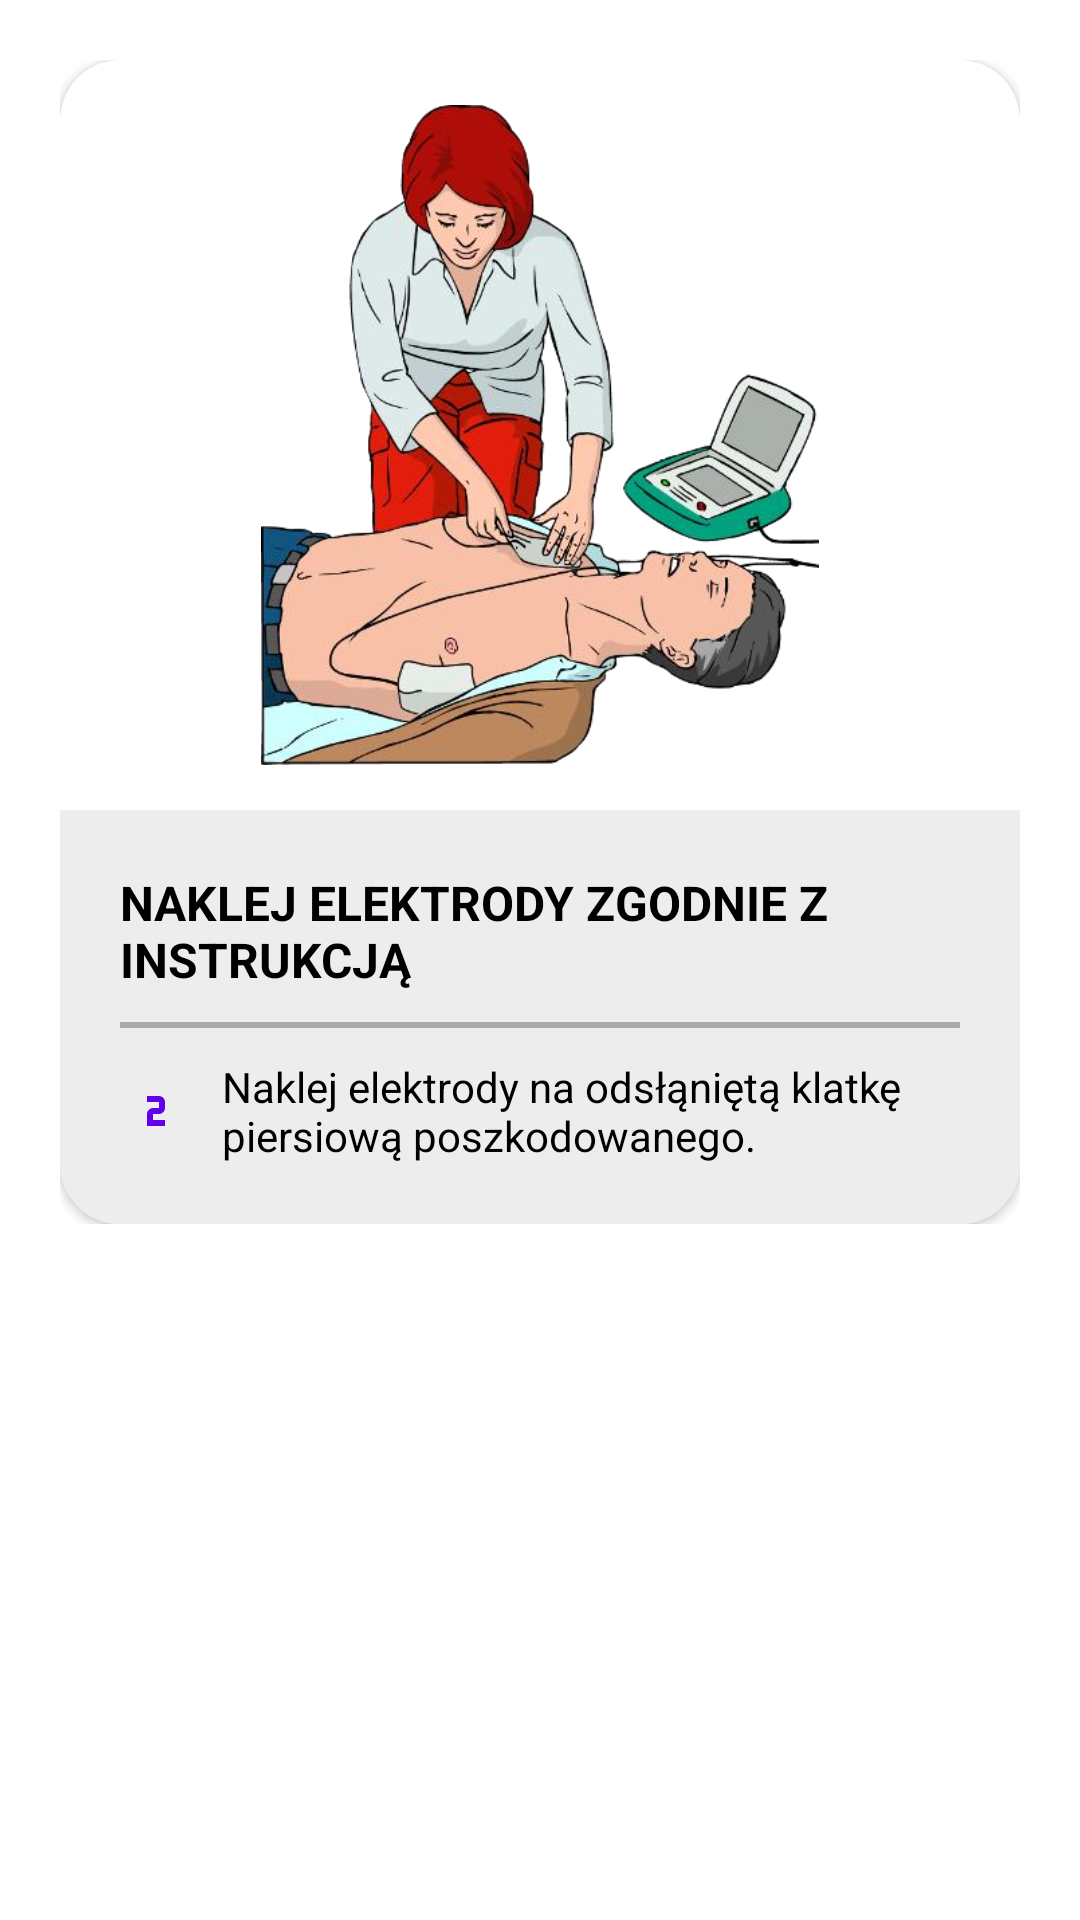

Where icons sit on this 1080px×1920px app screen, as (x1, y1, x2, y2):
numeric: (147, 1096, 165, 1126)
